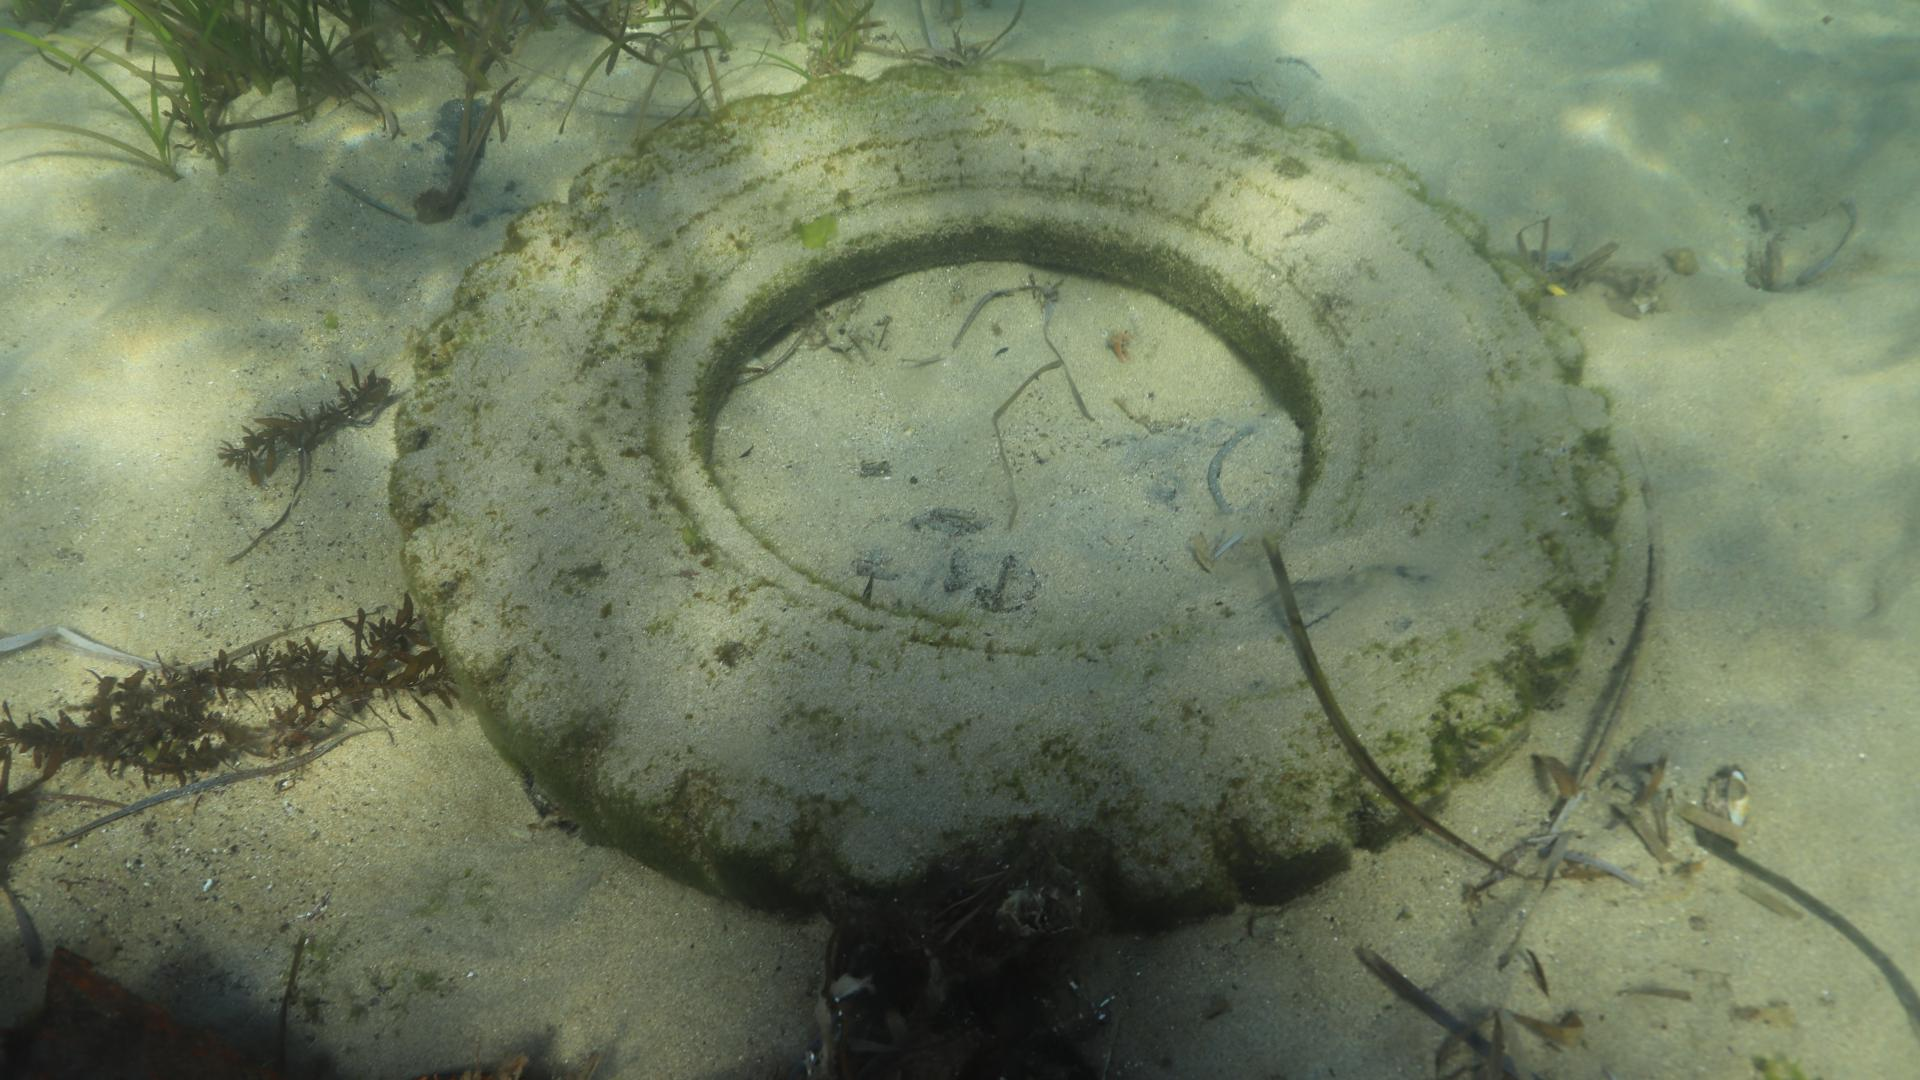tire: (388, 61, 1627, 939)
